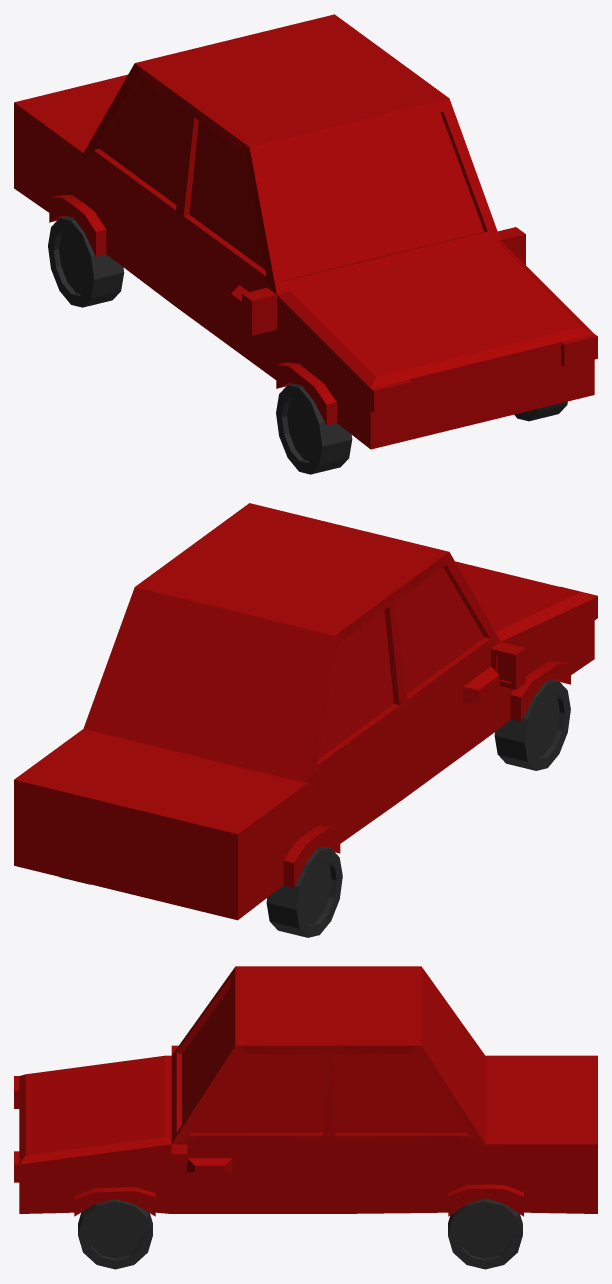
File: Car.fbx
3 views of the same model, one above another, from view 1: azimuth 30°, elevation 25°; view 2: azimuth 150°, elevation 25°; view 3: azimuth 270°, elevation 25° (orthographic). The views are drawn at different scales.
Parts seen in each view (by area): view 1: CarBody, CarWheels; view 2: CarBody, CarWheels; view 3: CarBody, CarWheels.
Part boxes in pixels (box(x1,y1,x2,y2)): CarBody: box(14, 14, 597, 449); CarWheels: box(48, 216, 567, 474); CarBody: box(14, 503, 597, 920); CarWheels: box(60, 680, 570, 937); CarBody: box(14, 966, 597, 1216); CarWheels: box(78, 1198, 522, 1269).
Bounding box in the file's own units: 5.47 × 5.05 × 12.45.
